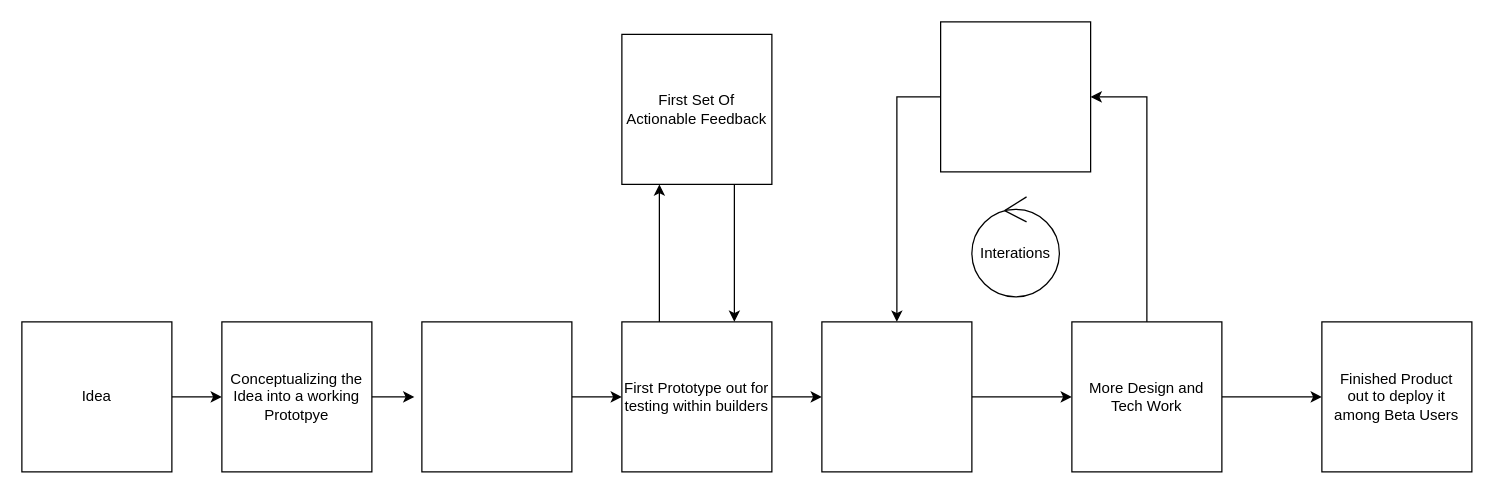
Some shapes in this 1494 by 494 pixel diagram are drawn without their labels. Each missing label, with the centre of its shape:
"More Feedback from Alpha Users" belongs at pixel 1015 96.
"MVP in Building" belongs at pixel 896 396.
"Wire Framing V1 Design" belongs at pixel 496 396.
